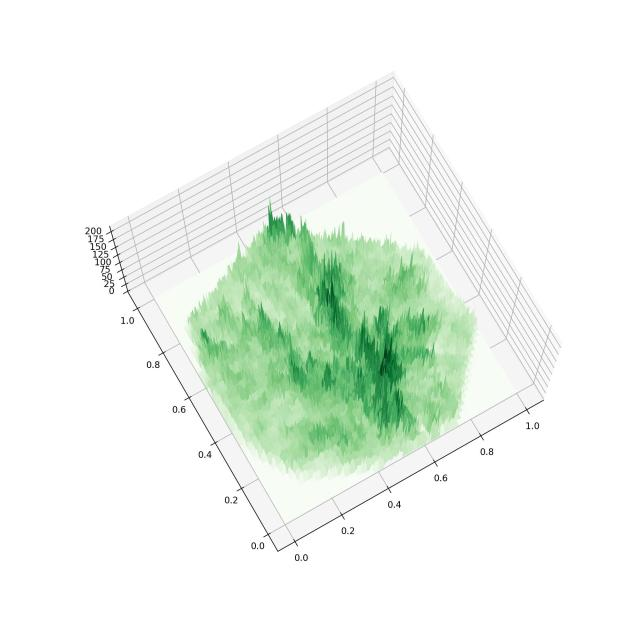spruce: (54, 42, 572, 613)
